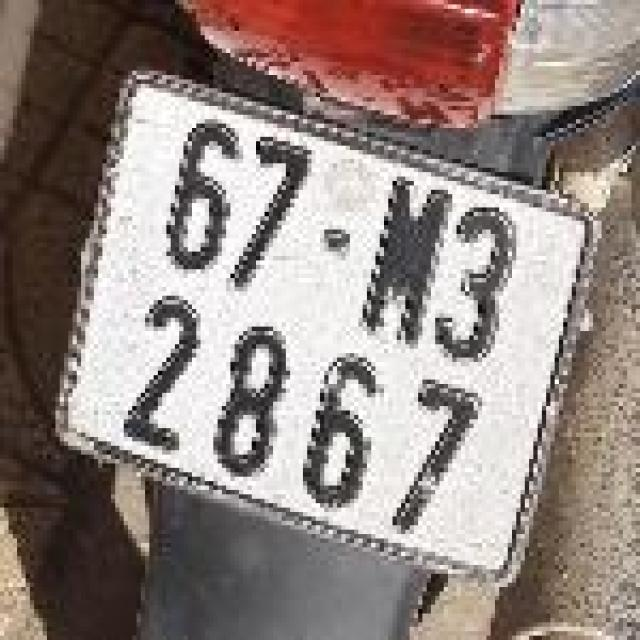2: (124, 298, 209, 448)
3: (433, 198, 523, 358)
6: (299, 355, 388, 519), (164, 113, 246, 280)
7: (386, 382, 493, 545), (234, 135, 316, 302)
8: (216, 324, 296, 479)
M: (356, 179, 450, 342)
